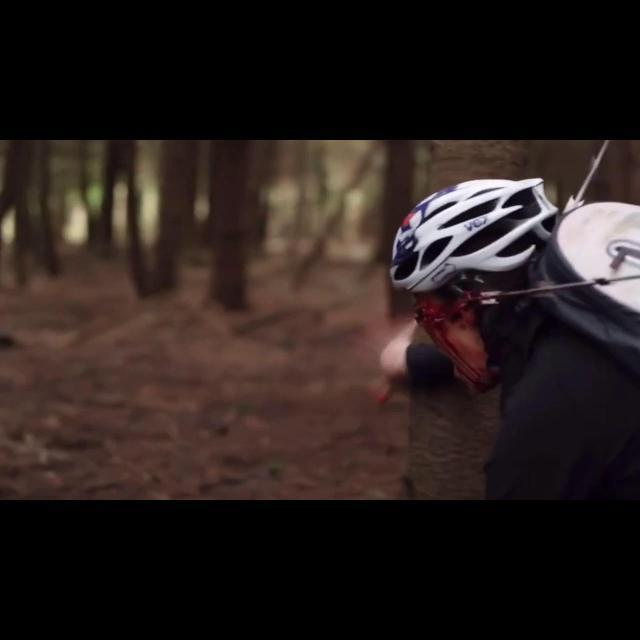blood: (415, 292, 498, 392)
